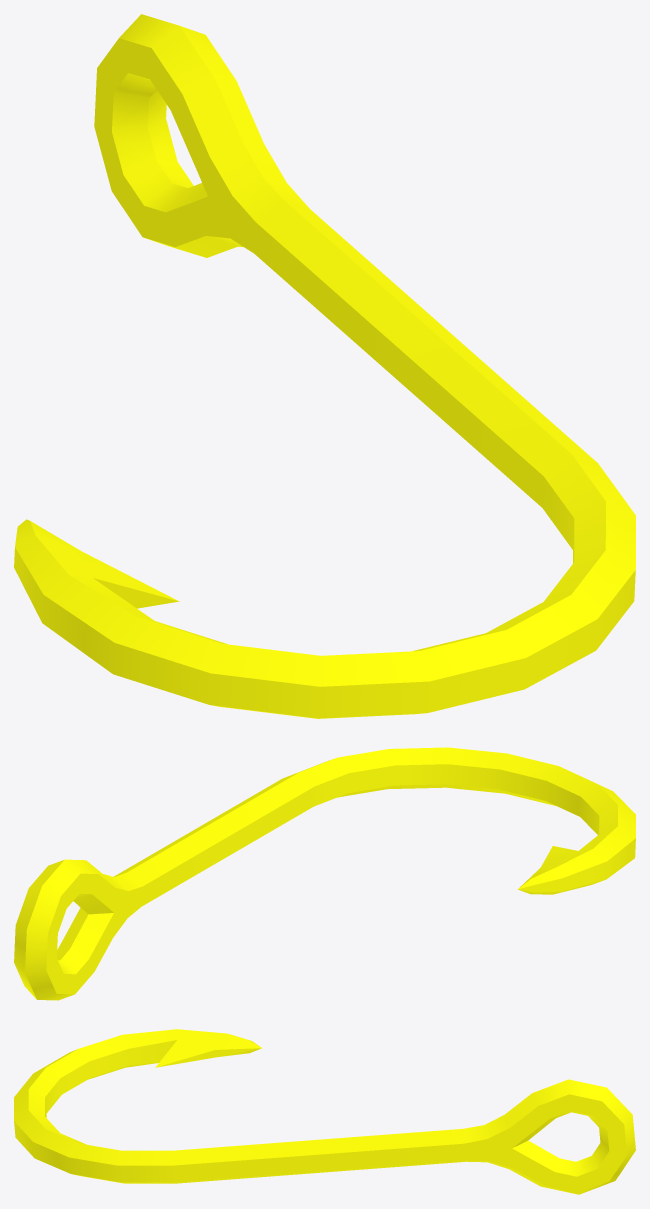
File: fishing_hook.glb
3 renders of one model, top to bottom at view 1: azimuth 30°, elevation 25°; view 2: azimuth 150°, elevation 25°; view 3: azimuth 270°, elevation 25°, orthographic. The views are drawn at different scales.
Parts seen in each view (by area): view 1: fishing_hook_mx_1; view 2: fishing_hook_mx_1; view 3: fishing_hook_mx_1.
Boxes of the visible parts, bbox=[...] form: fishing_hook_mx_1: bbox=[14, 14, 635, 718]; fishing_hook_mx_1: bbox=[14, 747, 635, 1000]; fishing_hook_mx_1: bbox=[14, 1029, 635, 1194].
Bounding box in the file's own units: 0.1757 × 0.0698 × 0.3407.
Materials: 1 (1 with a texture image).
